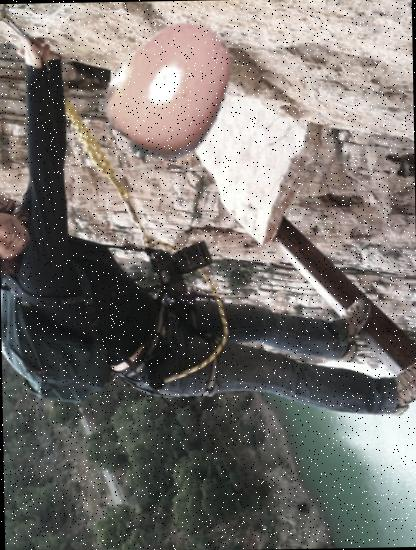Kaki: (94, 12, 247, 165)
